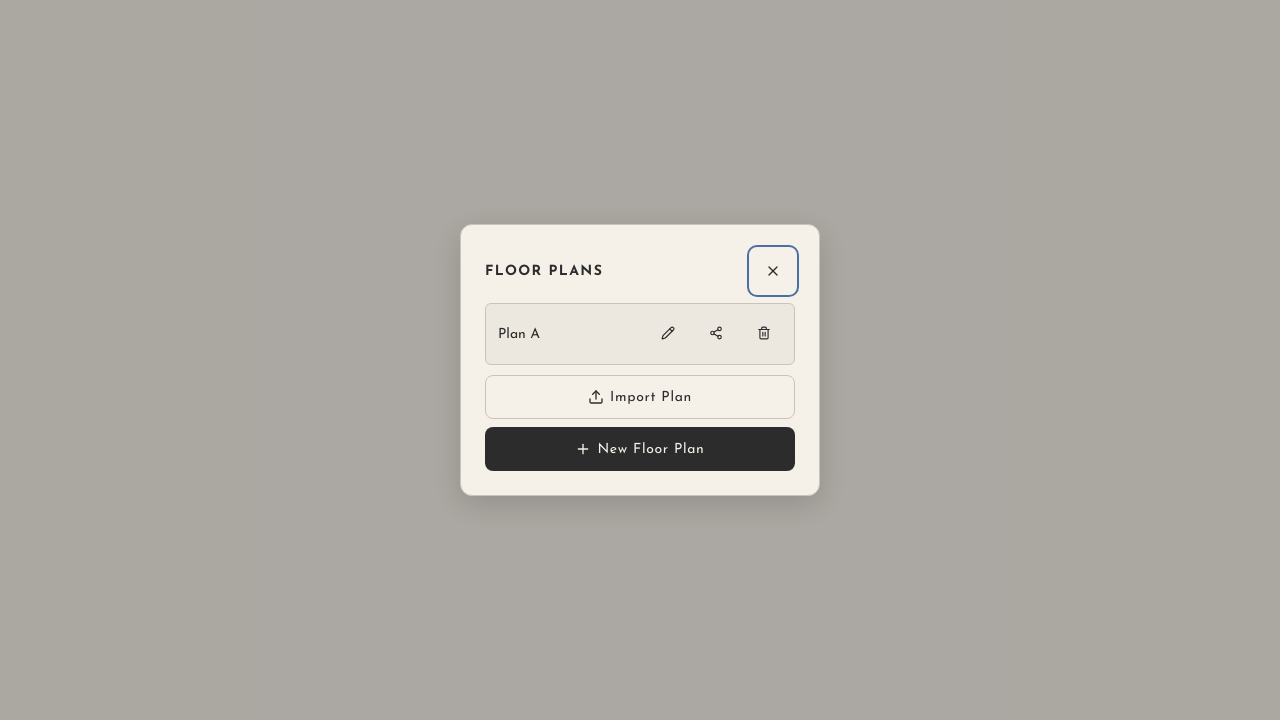
Scenario: FloorplanManager › cancels rename on Escape
This screenshot has width=1280, height=720.
Click the button named "Rename \"Plan A\"".
click(668, 334)  # box [646,312,690,356]
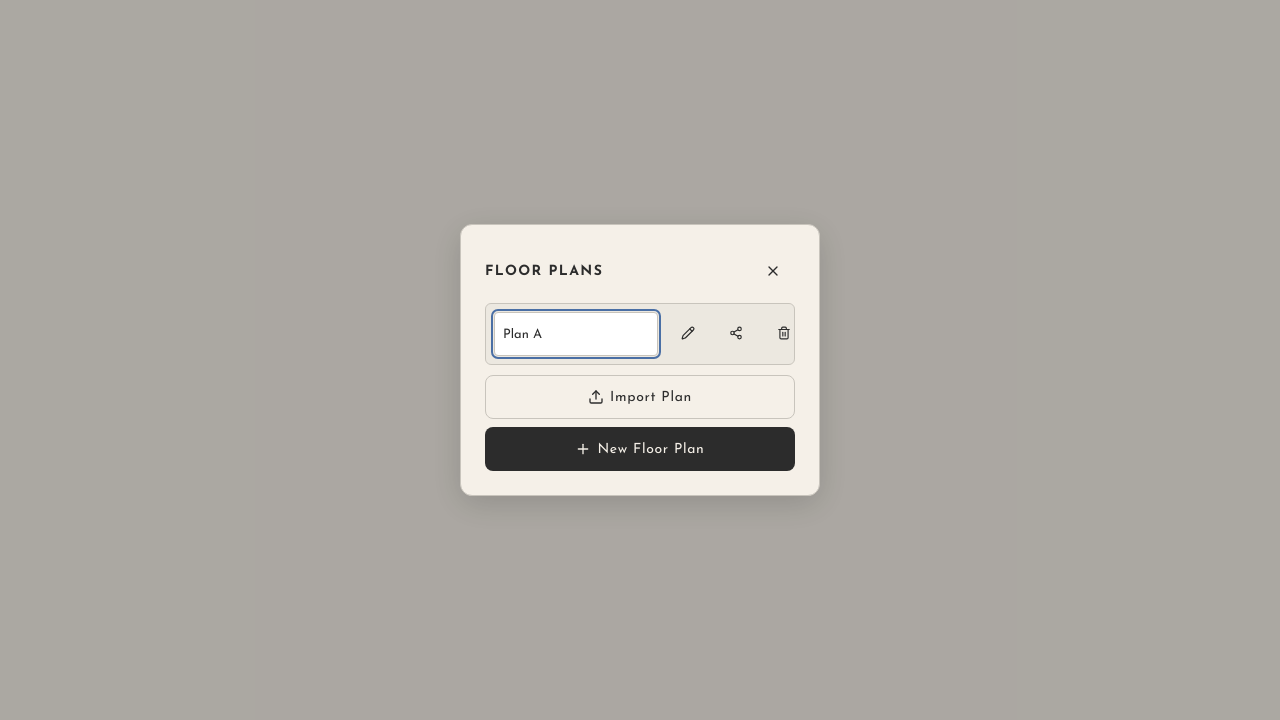
Press Escape
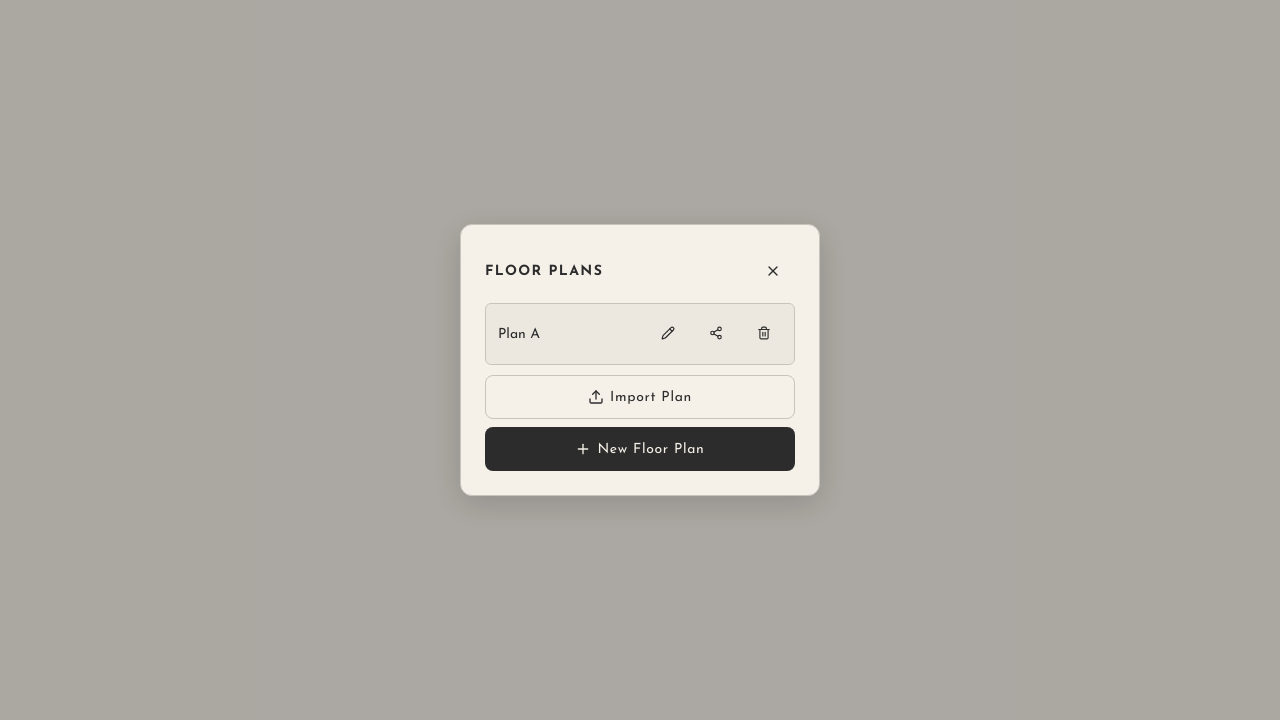
Result: the button "Plan A" is shown at [494,312,638,356]
